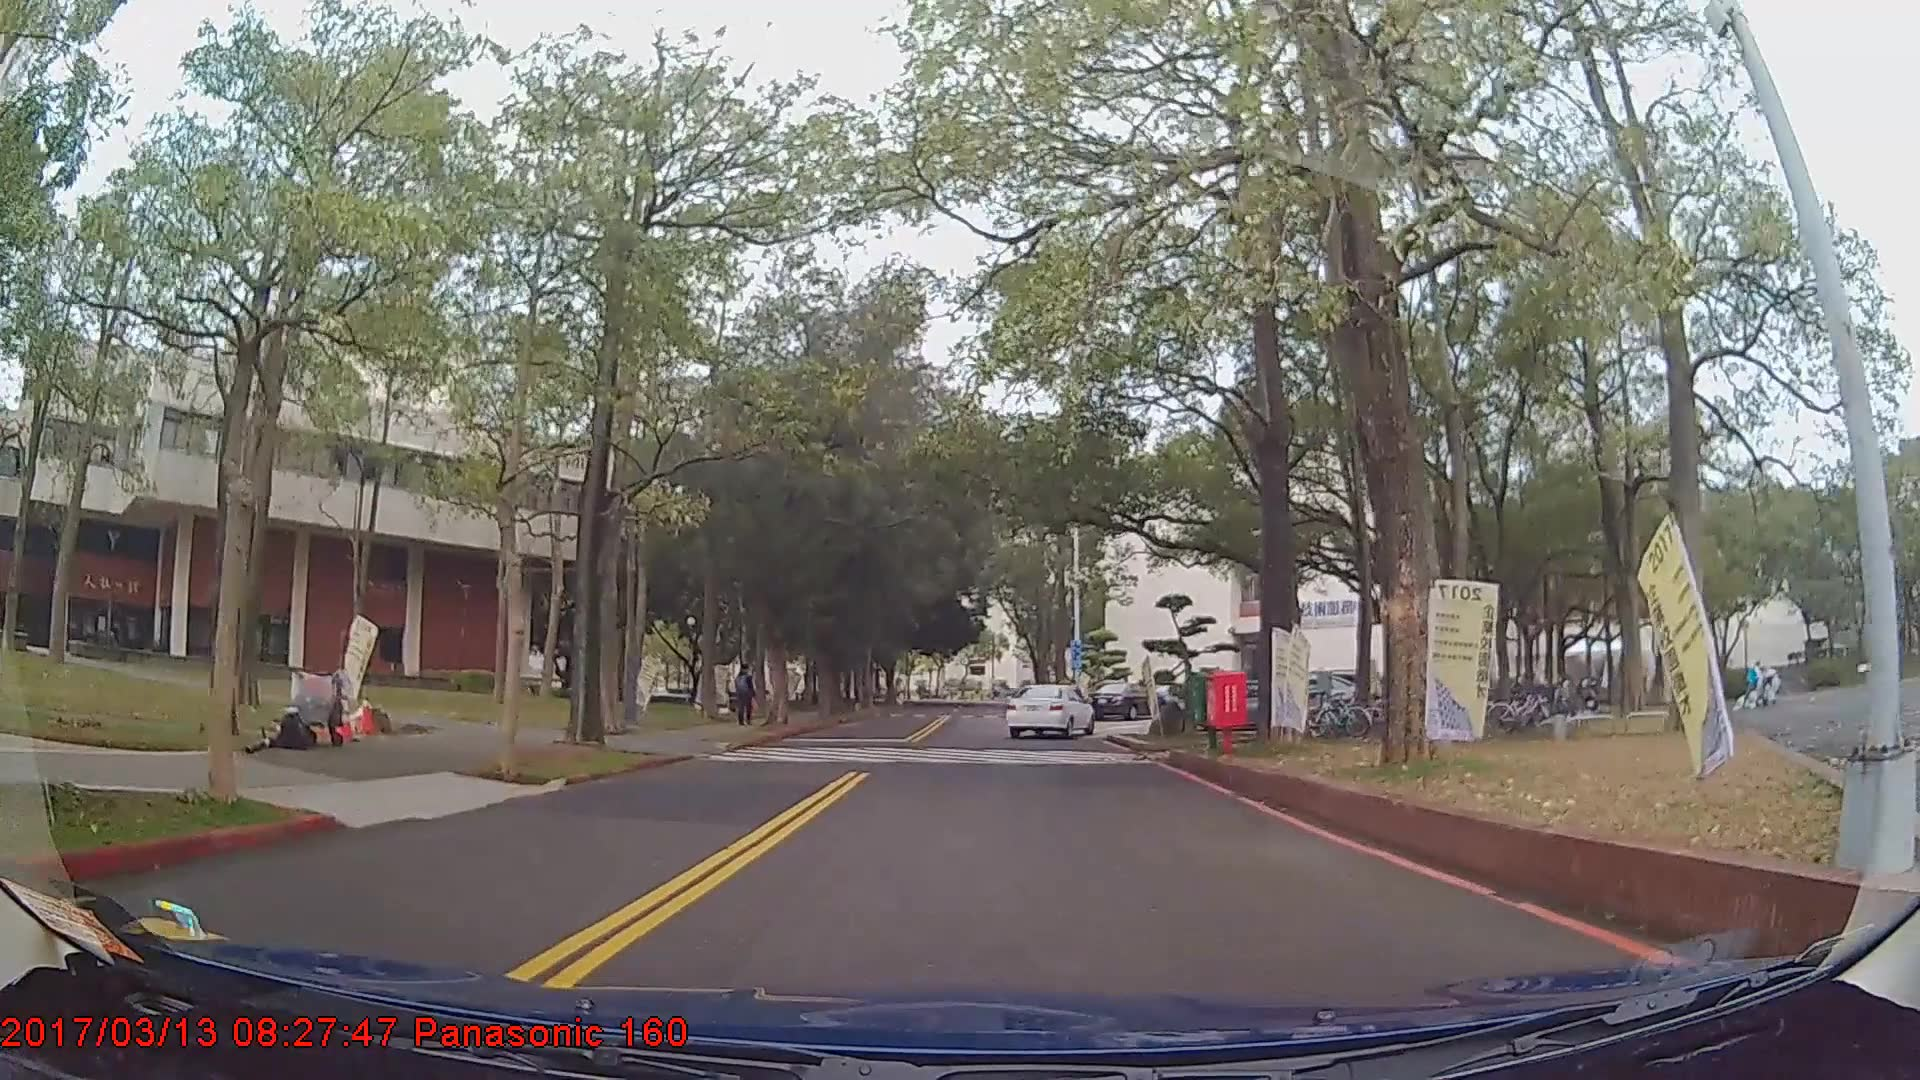pedestrian: (734, 667, 759, 729)
vehicle: (1005, 681, 1094, 739), (1088, 679, 1167, 720)
